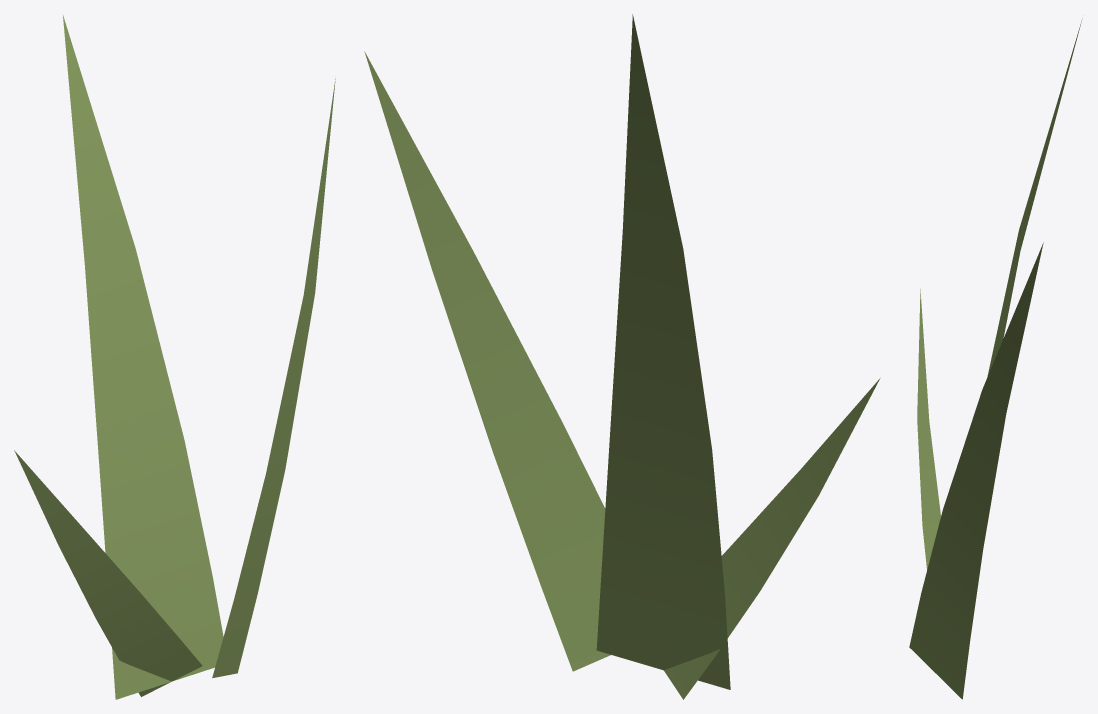
File: SM_GrassClump_02.fbx
3 renders of one model, left to right at view 1: azimuth 30°, elevation 25°; view 2: azimuth 150°, elevation 25°; view 3: azimuth 270°, elevation 25°, orthographic. The views are drawn at different scales.
Parts seen in each view (by area): view 1: SM_GrassClump_02; view 2: SM_GrassClump_02; view 3: SM_GrassClump_02.
Boxes of the visible parts, box(x1,y1,x2,y2) form: SM_GrassClump_02: box(14, 15, 335, 699); SM_GrassClump_02: box(364, 14, 880, 699); SM_GrassClump_02: box(909, 19, 1082, 699).
Size of the model in its own units: 6.99 by 11.17 by 2.79.
